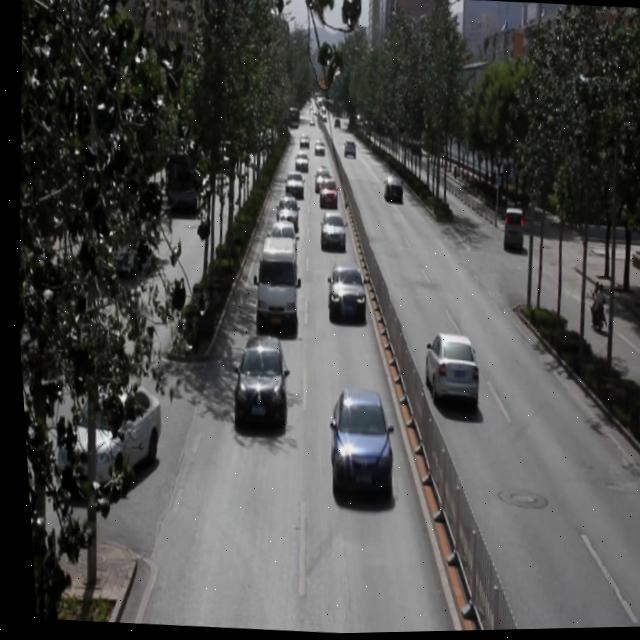car: (319, 389, 391, 496), (226, 335, 287, 426), (415, 331, 477, 409), (320, 265, 364, 327), (314, 211, 345, 252), (266, 220, 293, 258), (271, 196, 297, 230), (281, 171, 303, 202), (378, 175, 400, 205), (315, 177, 336, 208), (311, 168, 330, 195)
truck: (250, 236, 298, 325)
